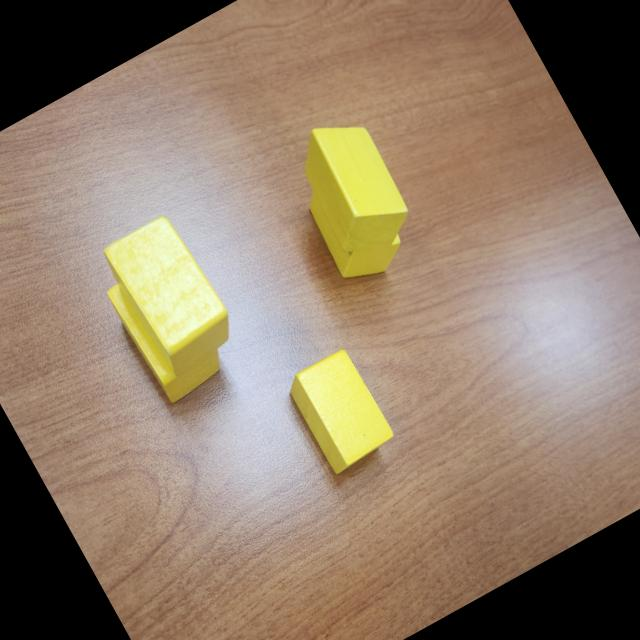yellow: (97, 210, 243, 382), (284, 106, 422, 267), (103, 255, 233, 408), (282, 346, 398, 476), (298, 164, 412, 292)
